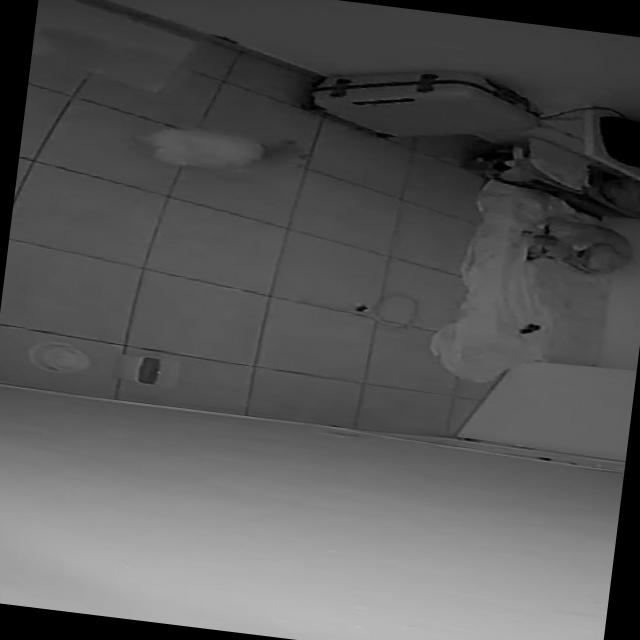laying down: (511, 206, 640, 285)
